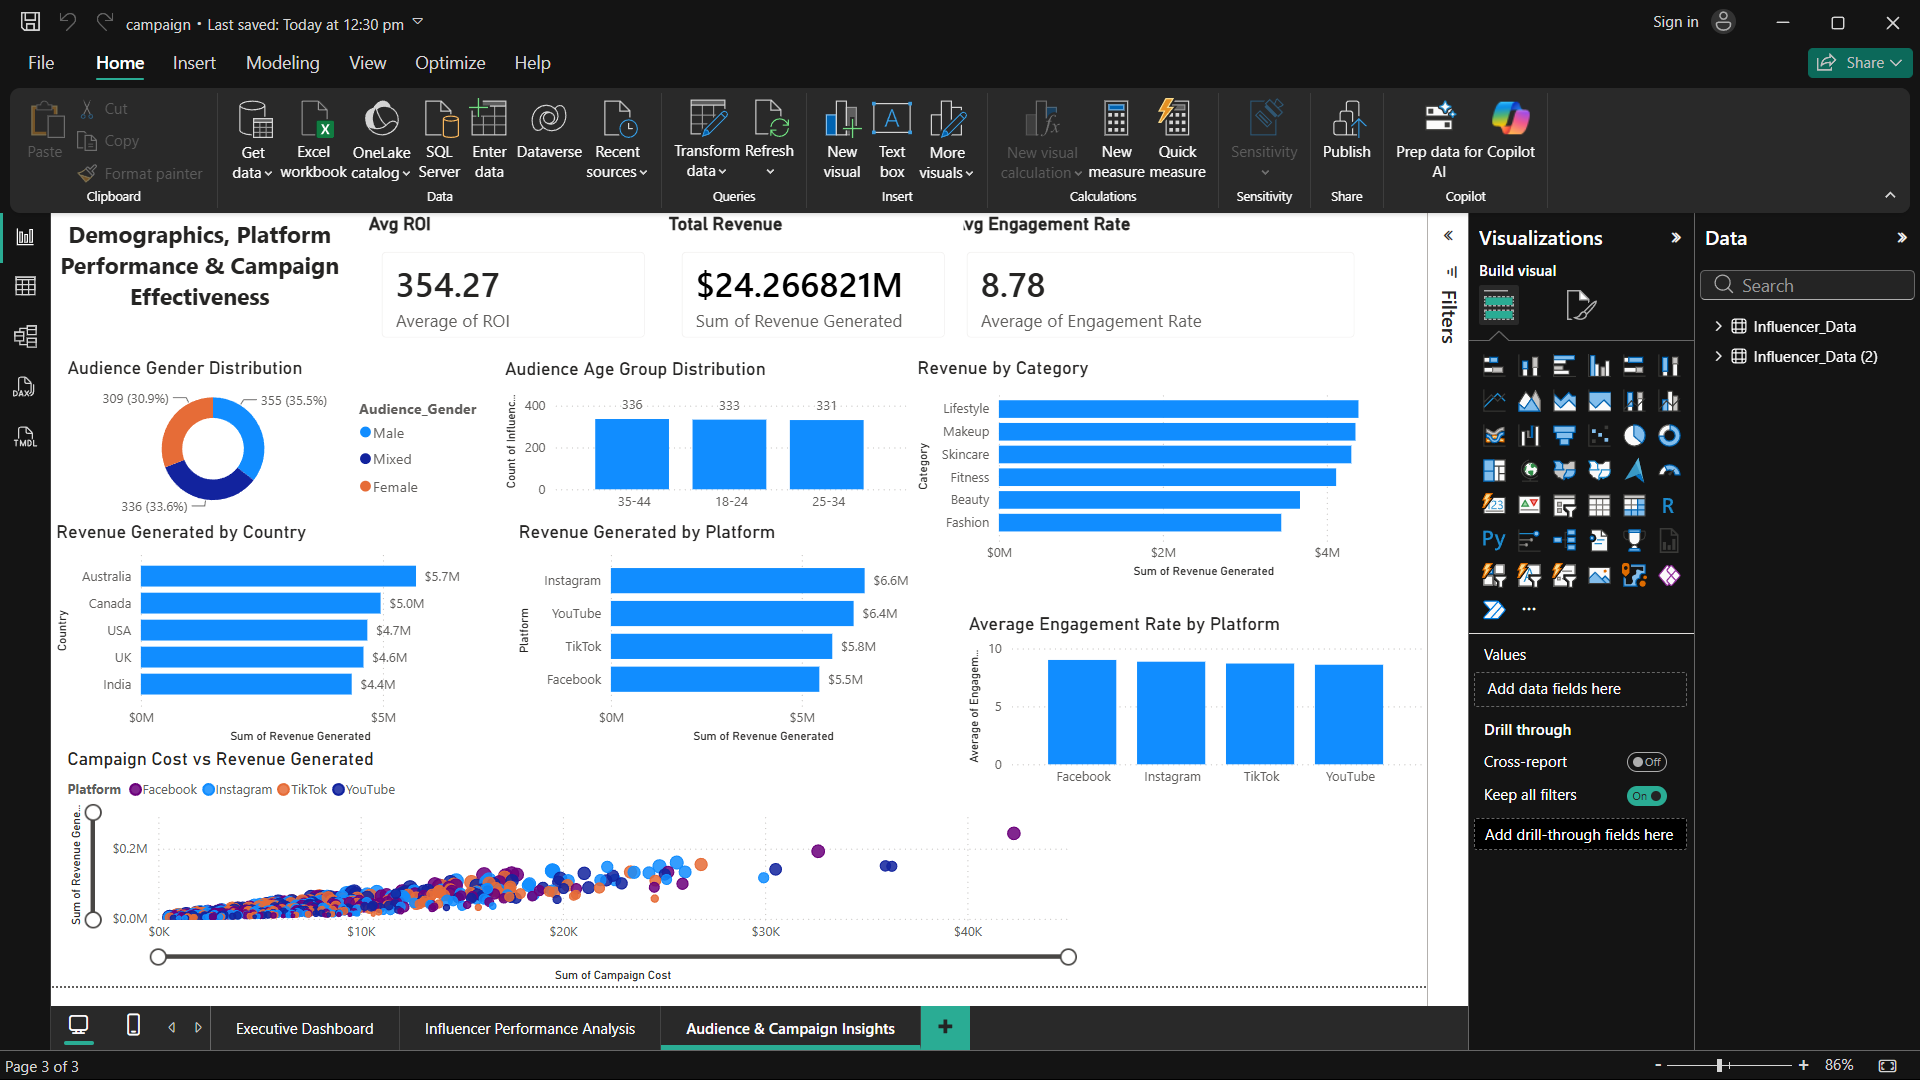

The page's visual inventory and layout, read from the dashboard file:
{"tool":"powerbi","page":{"name":"Audience & Campaign Insights","canvas":[1280,720],"ordinal":2},"visuals":[{"type":"cardVisual","title":"Avg Engagement Rate","fields":{"Data":["Avg(Influencer_Data.Engagement Rate)"]},"box":[834.9,0,395.3,133.7],"z":0},{"type":"cardVisual","title":"Avg ROI","fields":{"Data":["Avg(Influencer_Data.ROI)"]},"box":[290.7,0,279.1,133.7],"z":1000},{"type":"cardVisual","title":"Total Revenue","fields":{"Data":["Sum(Influencer_Data.Revenue Generated)"]},"box":[569.8,0,279.1,133.7],"z":2000},{"type":"donutChart","title":"Audience Gender Distribution","fields":{"Category":["Influencer_Data.Audience_Gender"],"Y":["CountNonNull(Influencer_Data.Influencer_ID)"]},"box":[10.5,133.7,407,152.3],"z":3000},{"type":"clusteredColumnChart","title":"Audience Age Group Distribution","fields":{"Category":["Influencer_Data.Audience_Age_Group"],"Y":["CountNonNull(Influencer_Data.Influencer_ID)"]},"box":[417.4,134.9,383.7,152.3],"z":4000},{"type":"clusteredBarChart","title":"Revenue Generated by Country","fields":{"Category":["Influencer_Data.Country"],"Y":["Sum(Influencer_Data.Revenue Generated)"]},"box":[0,286,397.7,211.6],"z":5000},{"type":"clusteredBarChart","title":"Revenue Generated by Platform","fields":{"Category":["Influencer_Data.Platform"],"Y":["Sum(Influencer_Data.Revenue Generated)"]},"box":[430.2,286,391.9,211.6],"z":6000},{"type":"scatterChart","title":"Campaign Cost vs Revenue Generated","fields":{"X":["Sum(Influencer_Data.Campaign Cost)"],"Size":["Avg(Influencer_Data.ROI)"],"Series":["Influencer_Data.Platform"],"Y":["Influencer_Data.Revenue Generated"],"Category":["Influencer_Data.Influencer_ID","Influencer_Data.Influencer_Name"]},"box":[10.5,497.7,954.7,222.1],"z":7000},{"type":"clusteredBarChart","title":"Revenue by Category","fields":{"Category":["Influencer_Data.Category"],"Y":["Sum(Influencer_Data.Revenue Generated)"]},"box":[801.2,133.7,479.1,210.5],"z":8000},{"type":"clusteredColumnChart","title":"Average Engagement Rate by Platform","fields":{"Category":["Influencer_Data.Platform"],"Y":["Avg(Influencer_Data.Engagement Rate)"]},"box":[848.8,372.1,431.4,170.9],"z":9000},{"type":"textbox","box":[0,0,276.7,107],"z":10000}]}

Visuals, with their boxes on the page's 1280x720 design canvas (x1, y1, x2, y2). These are canvas units, not pixel positions in the 1920x1080 screenshot, which may show the page scaled, cropped or inside an application window:
"Avg Engagement Rate" cardVisual: <box>835,0,1230,134</box>
"Avg ROI" cardVisual: <box>291,0,570,134</box>
"Total Revenue" cardVisual: <box>570,0,849,134</box>
"Audience Gender Distribution" donutChart: <box>10,134,418,286</box>
"Audience Age Group Distribution" clusteredColumnChart: <box>417,135,801,287</box>
"Revenue Generated by Country" clusteredBarChart: <box>0,286,398,498</box>
"Revenue Generated by Platform" clusteredBarChart: <box>430,286,822,498</box>
"Campaign Cost vs Revenue Generated" scatterChart: <box>10,498,965,720</box>
"Revenue by Category" clusteredBarChart: <box>801,134,1280,344</box>
"Average Engagement Rate by Platform" clusteredColumnChart: <box>849,372,1280,543</box>
textbox: <box>0,0,277,107</box>
